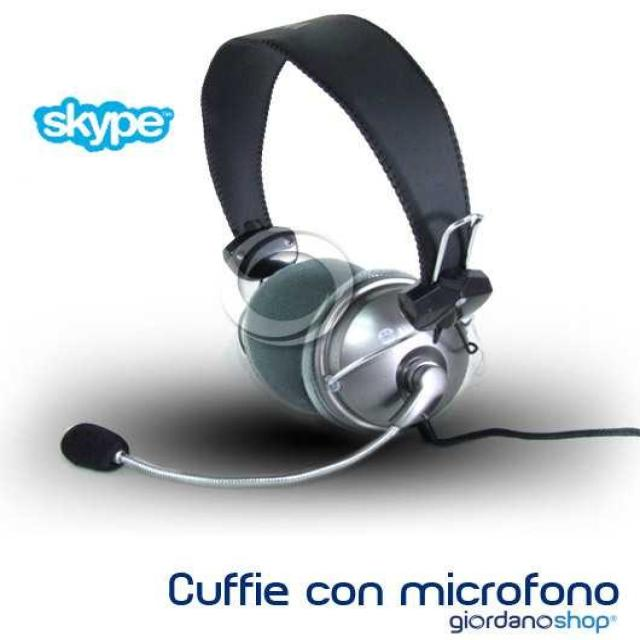microphone: (65, 419, 388, 488)
